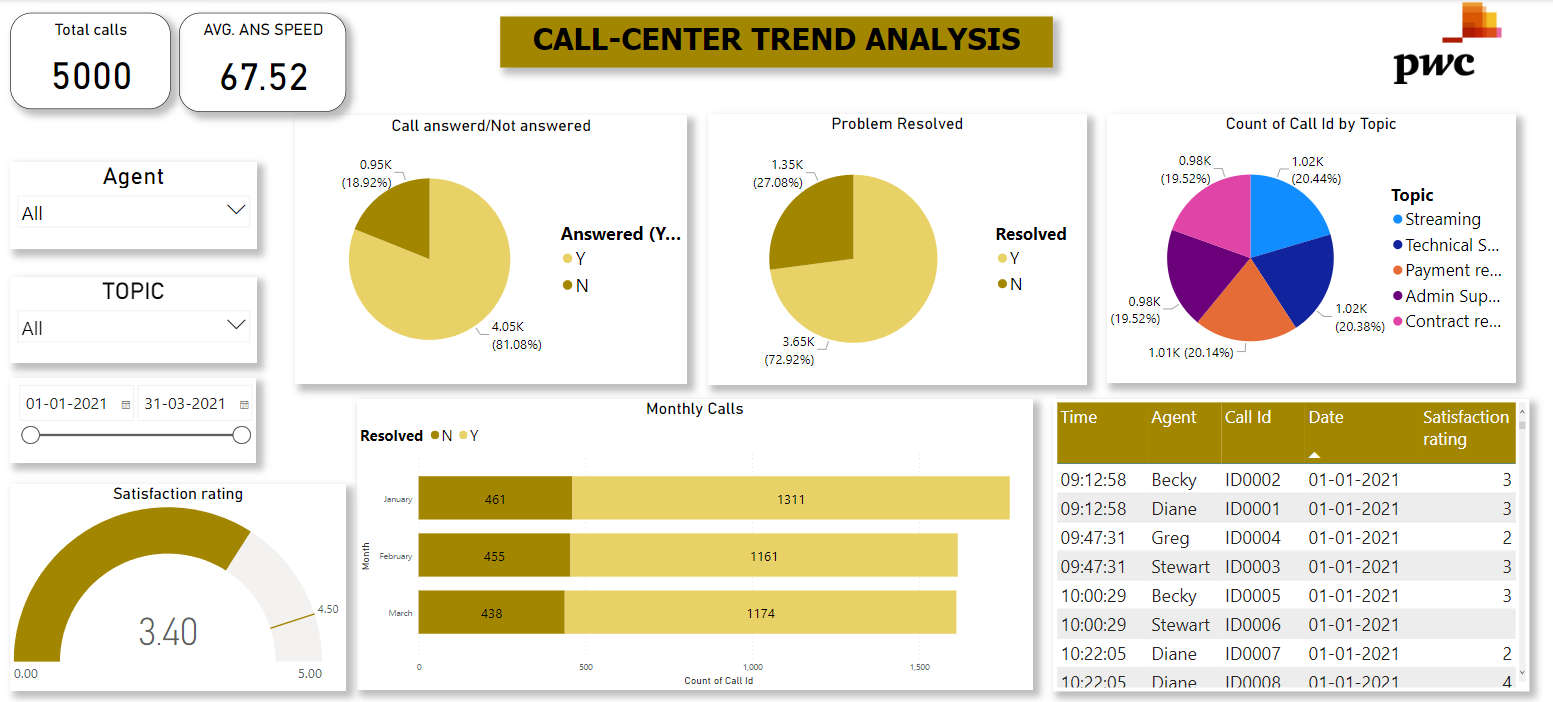

Layout of this report page (visuals, bound fields, positions):
{"tool":"powerbi","page":{"name":"Page 1","canvas":[2200,1000],"ordinal":0},"visuals":[{"type":"pieChart","title":"Call answerd/Not answered","fields":{"Y":["CountNonNull(Sheet1.Answered (Y/N))"],"Category":["Sheet1.Answered (Y/N)"]},"box":[418.3,163.3,553.3,380],"z":0},{"type":"textbox","box":[708,24,780,72],"z":1000},{"type":"card","title":"Total calls","fields":{"Values":["CountNonNull(Sheet1.Call Id)"]},"box":[16,20,226,136],"z":2000},{"type":"pieChart","title":"Problem Resolved","fields":{"Category":["Sheet1.Resolved"],"Y":["CountNonNull(Sheet1.Resolved)"]},"box":[1000,162.5,535,382.5],"z":3000},{"type":"barChart","title":"Monthly Calls","fields":{"Category":["Sheet1.Date.Variation.Date Hierarchy.Month"],"Y":["CountNonNull(Sheet1.Call Id)"],"Series":["Sheet1.Resolved"]},"box":[505,565,955,410],"z":4000},{"type":"card","title":"AVG. ANS SPEED","fields":{"Values":["Avg(Sheet1.Speed of answer in seconds)"]},"box":[254,20,236,140],"z":5000},{"type":"gauge","title":"Satisfaction rating","fields":{"Y":["Avg(Sheet1.Satisfaction rating)"]},"box":[16,684,474,292],"z":6000},{"type":"slicer","title":"Agent","fields":{"Values":["Sheet1.Agent"]},"box":[16,230,348,124],"z":8000},{"type":"slicer","title":"Date","fields":{"Values":["Sheet1.Date"]},"box":[15,535,347.5,120],"z":9000},{"type":"slicer","title":"TOPIC","fields":{"Values":["Sheet1.Topic"]},"box":[16,392,348,122],"z":10000},{"type":"tableEx","fields":{"Values":["Sheet1.Time","Sheet1.Agent","Sheet1.Call Id","Sheet1.Date","Sheet1.Satisfaction rating"]},"box":[1487.5,565,672.5,412.5],"z":11000},{"type":"pieChart","fields":{"Category":["Sheet1.Topic"],"Y":["CountNonNull(Sheet1.Call Id)"]},"box":[1562.5,162.5,577.5,380],"z":11001},{"type":"image","box":[1950,0,190,125],"z":11002}]}

Visuals, with their boxes in screenshot pixels (x1, y1, x2, y2), scaled from the page's 2200x1000 canvas onto the 1553x702 screenshot:
"Call answerd/Not answered" pieChart: crop(295, 115, 686, 381)
textbox: crop(500, 17, 1050, 67)
"Total calls" card: crop(11, 14, 171, 110)
"Problem Resolved" pieChart: crop(706, 114, 1084, 383)
"Monthly Calls" barChart: crop(356, 397, 1031, 684)
"AVG. ANS SPEED" card: crop(179, 14, 346, 112)
"Satisfaction rating" gauge: crop(11, 480, 346, 685)
"Agent" slicer: crop(11, 161, 257, 249)
"Date" slicer: crop(11, 376, 256, 460)
"TOPIC" slicer: crop(11, 275, 257, 361)
tableEx - Sheet1.Time x Sheet1.Agent: crop(1050, 397, 1525, 686)
pieChart - Sheet1.Topic x CountNonNull(Sheet1.Call Id): crop(1103, 114, 1511, 381)
image: crop(1377, 0, 1511, 88)
